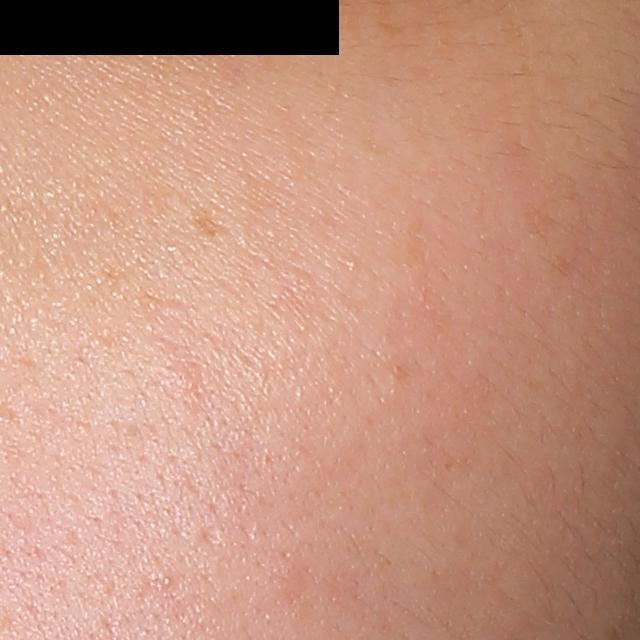melasma: (187, 206, 238, 240)
